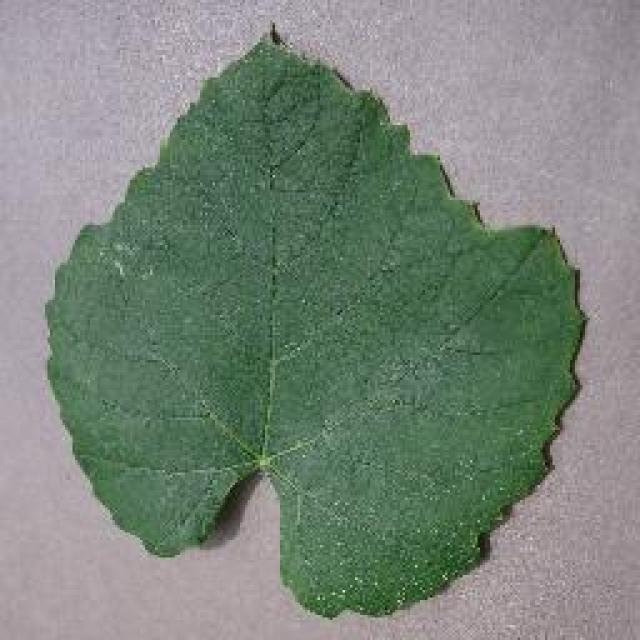Healthy: (35, 56, 598, 614)
